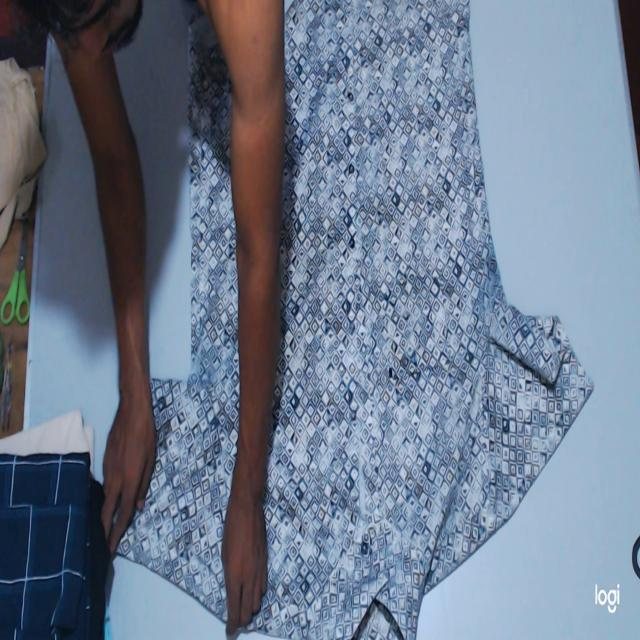new-garment: (246, 0, 592, 639), (119, 23, 241, 619)
